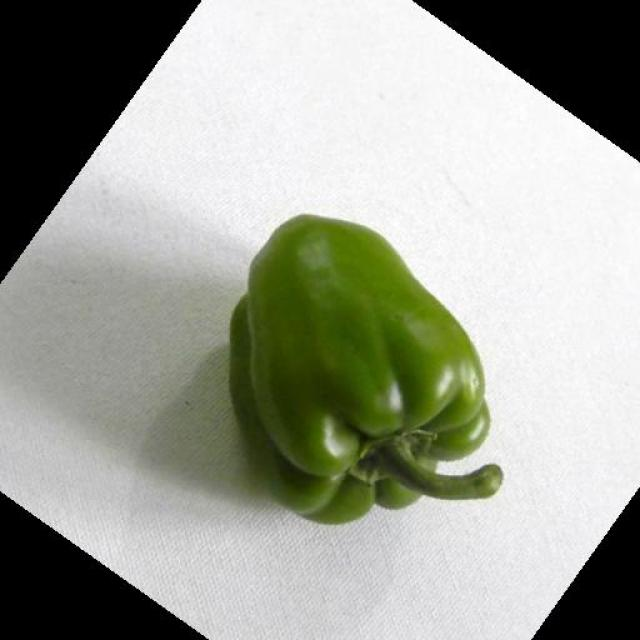Fresh_Capsicum: (228, 249, 499, 516)
